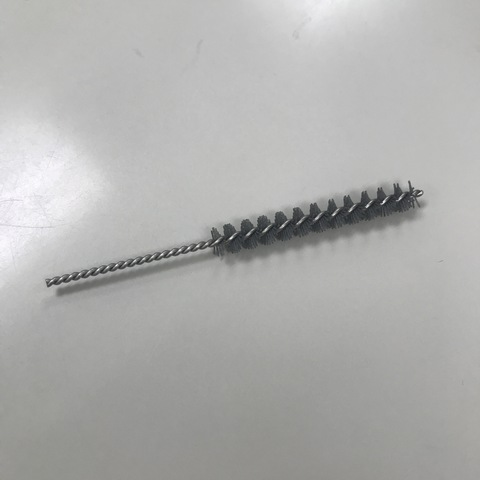Twist Brush-A: (41, 181, 418, 291)
